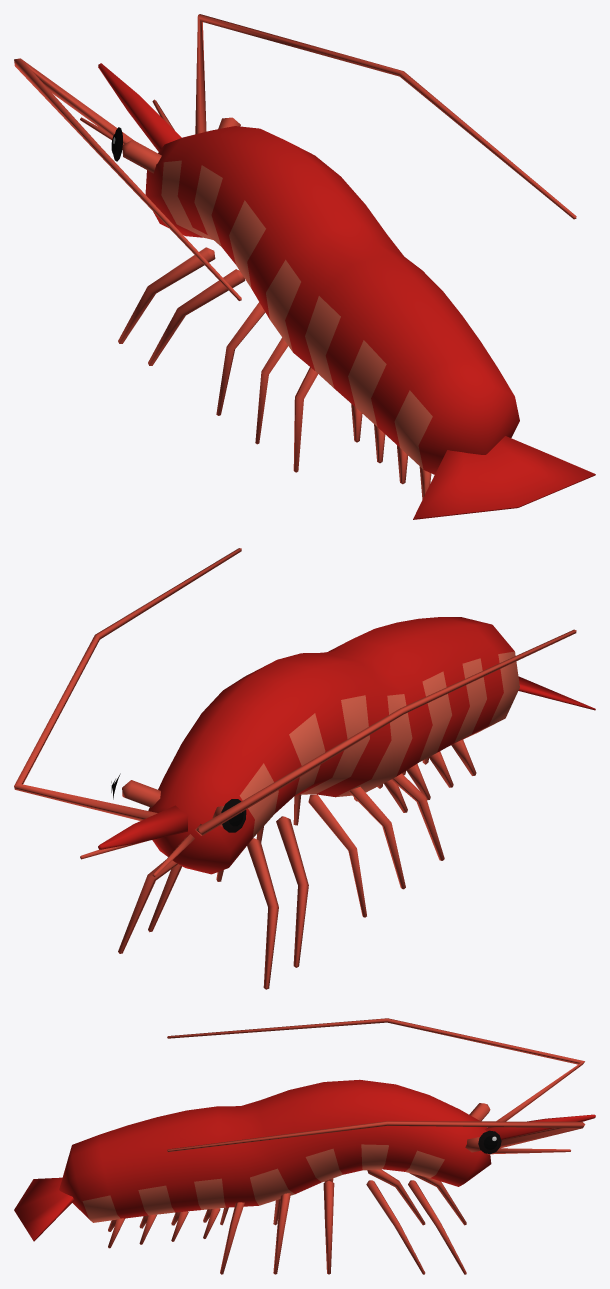
The model's file is cherry_shrimp.glb.
3 views of the same model, one above another, from view 1: azimuth 30°, elevation 25°; view 2: azimuth 150°, elevation 25°; view 3: azimuth 270°, elevation 25° (orthographic). The views are drawn at different scales.
Visible parts, largest first — view 1: cherry_shrimp; view 2: cherry_shrimp; view 3: cherry_shrimp.
Boxes of the visible parts, x1,y1,x2,y2 form: cherry_shrimp: (14, 14, 595, 519); cherry_shrimp: (14, 548, 595, 989); cherry_shrimp: (14, 1018, 595, 1274).
Bounding box in the file's own units: 1.11 × 0.8124 × 2.39.
